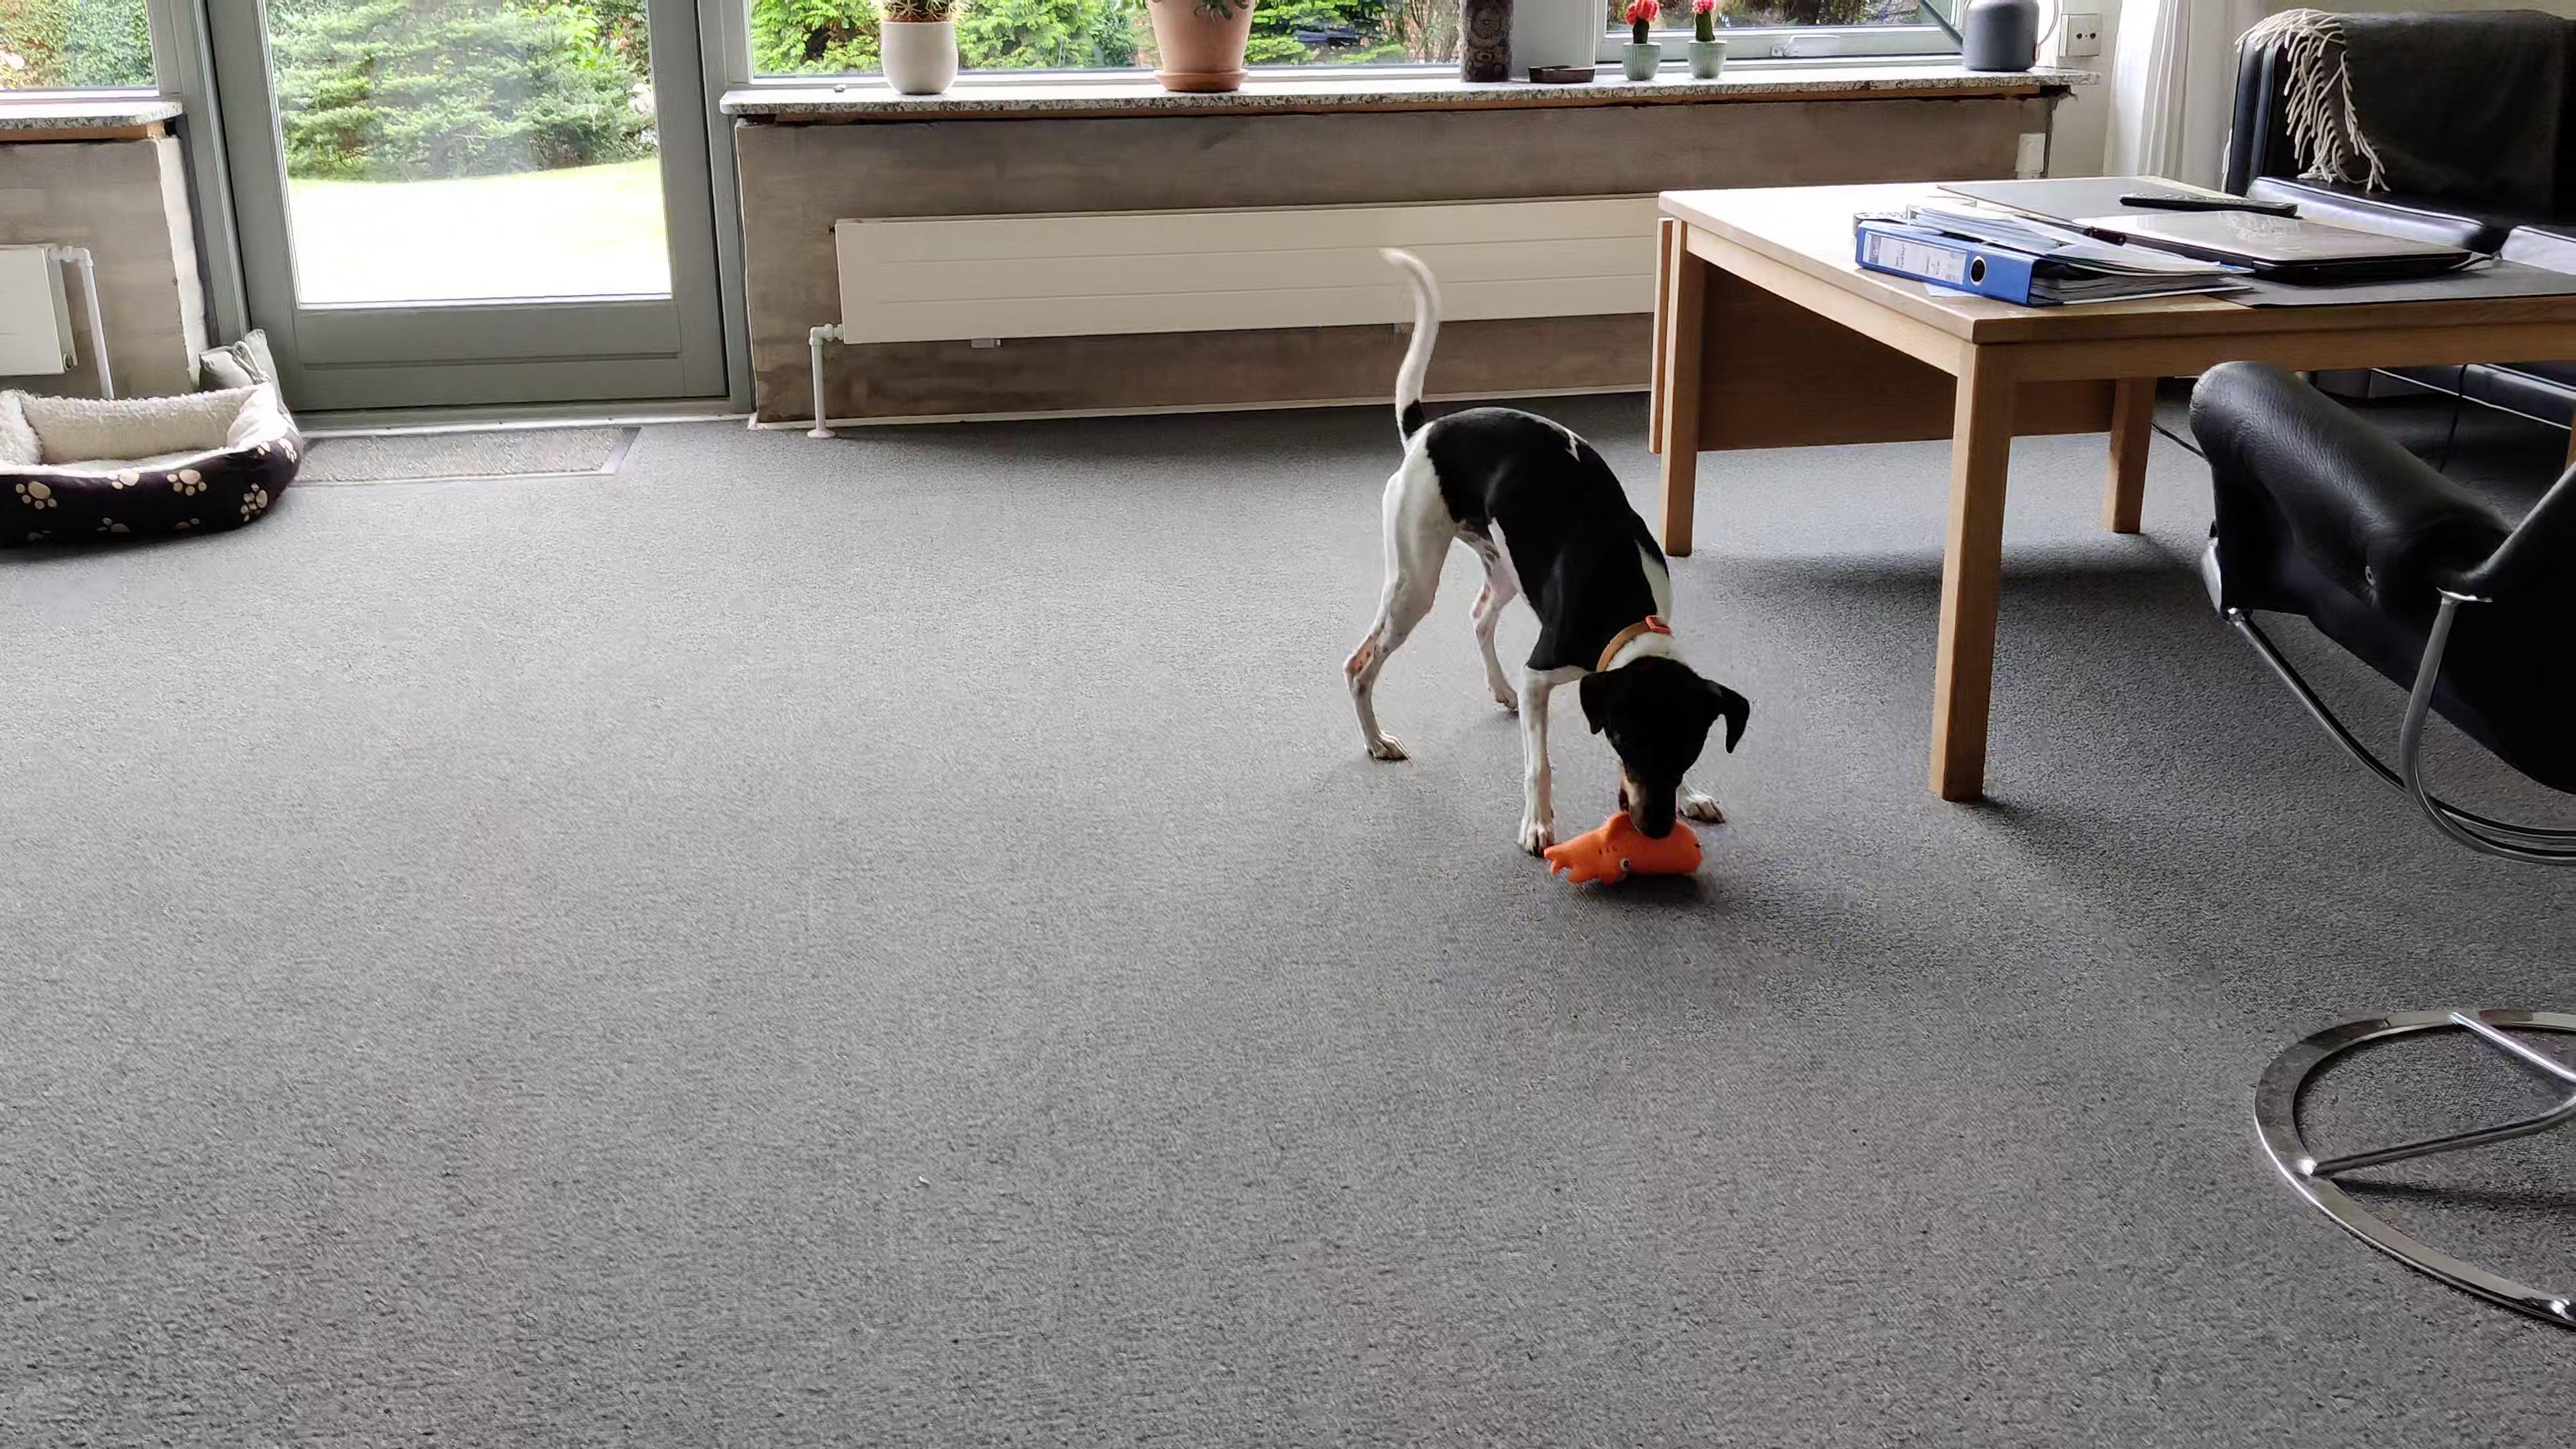Dog: (1318, 230, 1752, 869)
